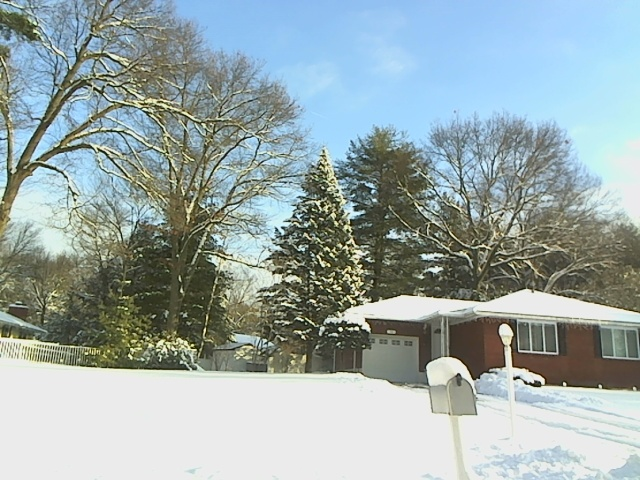Unploughed: (483, 387, 632, 443)
